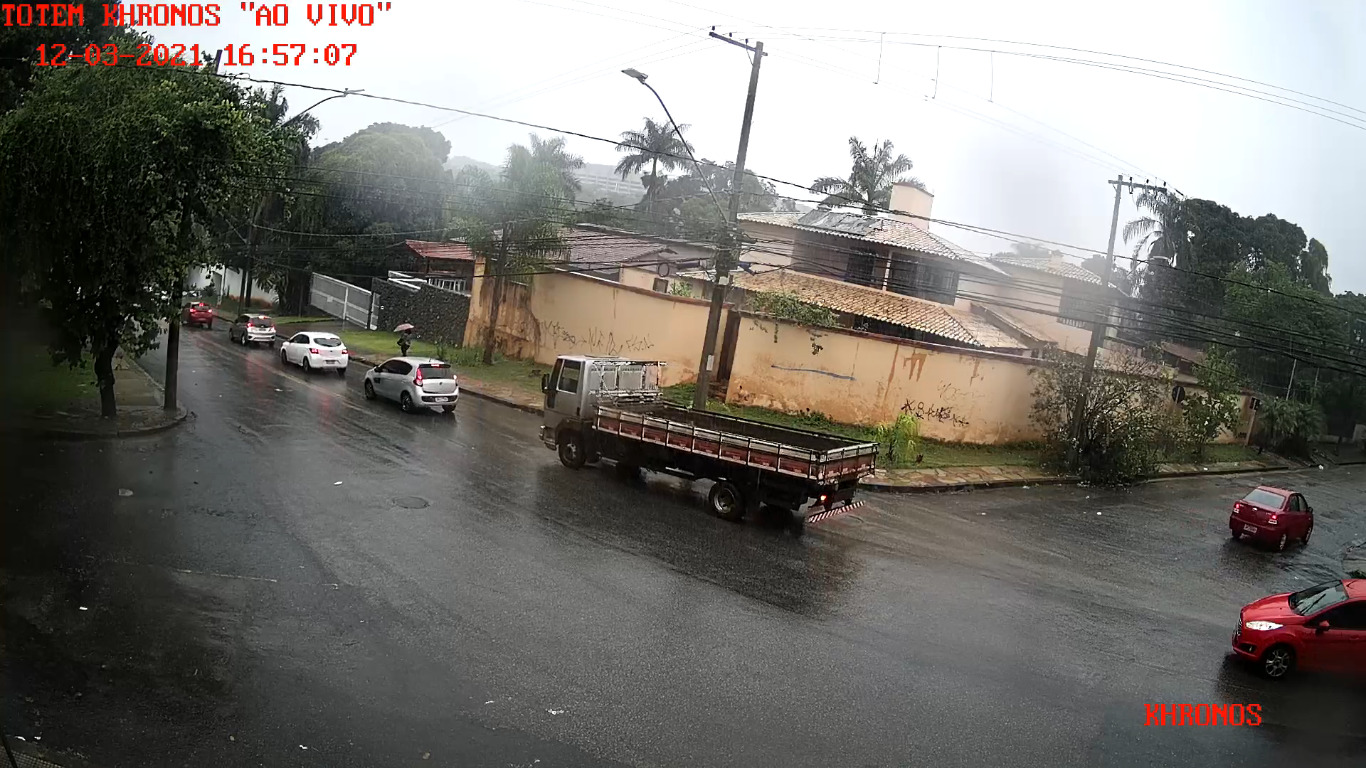car: (1231, 577, 1366, 682), (364, 356, 459, 415), (280, 331, 349, 374)
